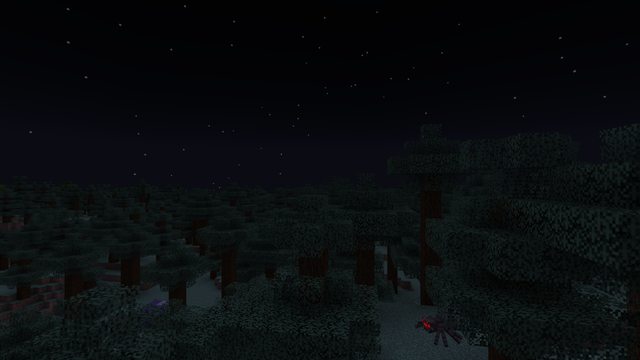araignees: (419, 307, 457, 343)
